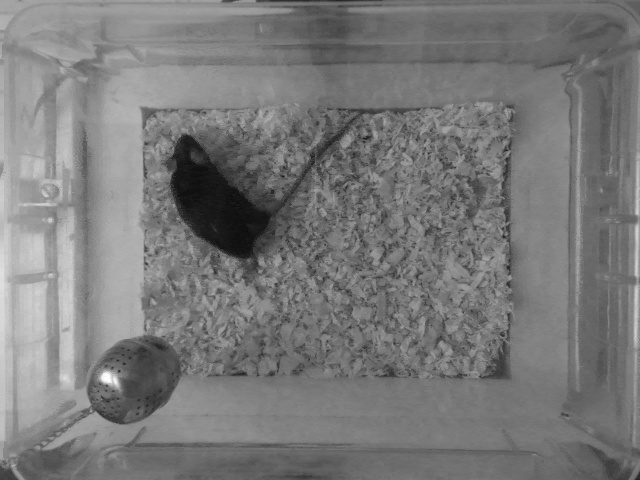mice: (167, 109, 367, 262)
